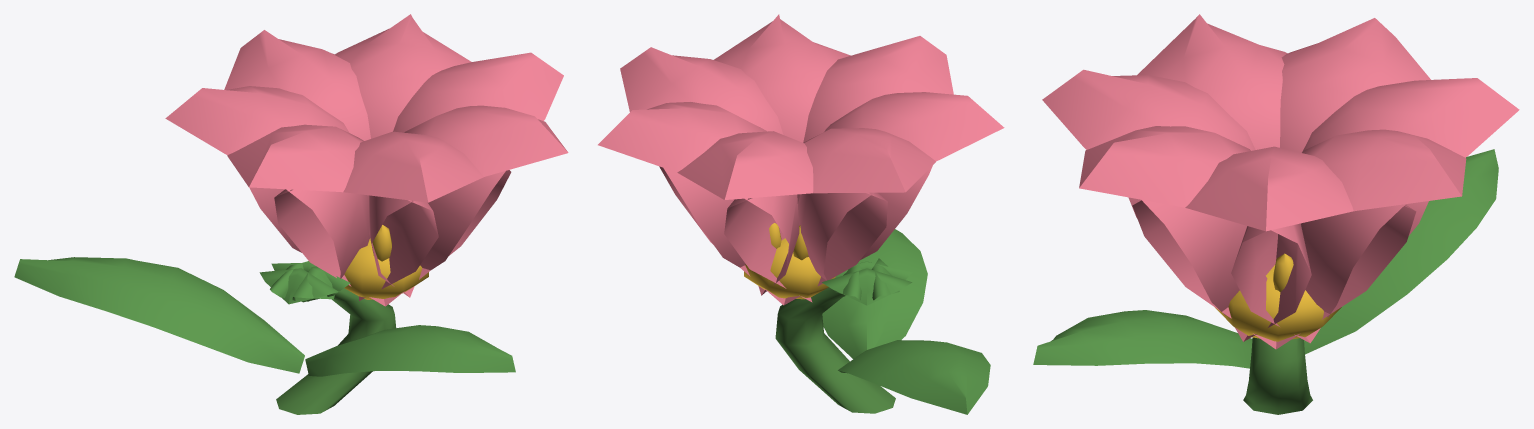
Rendered from bloompin.glb.
3 renders of one model, left to right at view 1: azimuth 30°, elevation 25°; view 2: azimuth 150°, elevation 25°; view 3: azimuth 270°, elevation 25°, orthographic. The views are drawn at different scales.
Visible parts, largest first — view 1: BloomPin; view 2: BloomPin; view 3: BloomPin.
Boxes of the visible parts, bbox=[...] form: BloomPin: bbox=[14, 14, 568, 414]; BloomPin: bbox=[598, 14, 1004, 414]; BloomPin: bbox=[1033, 14, 1519, 414].
Size of the model in its own units: 0.1043 by 0.0663 by 0.0841.
